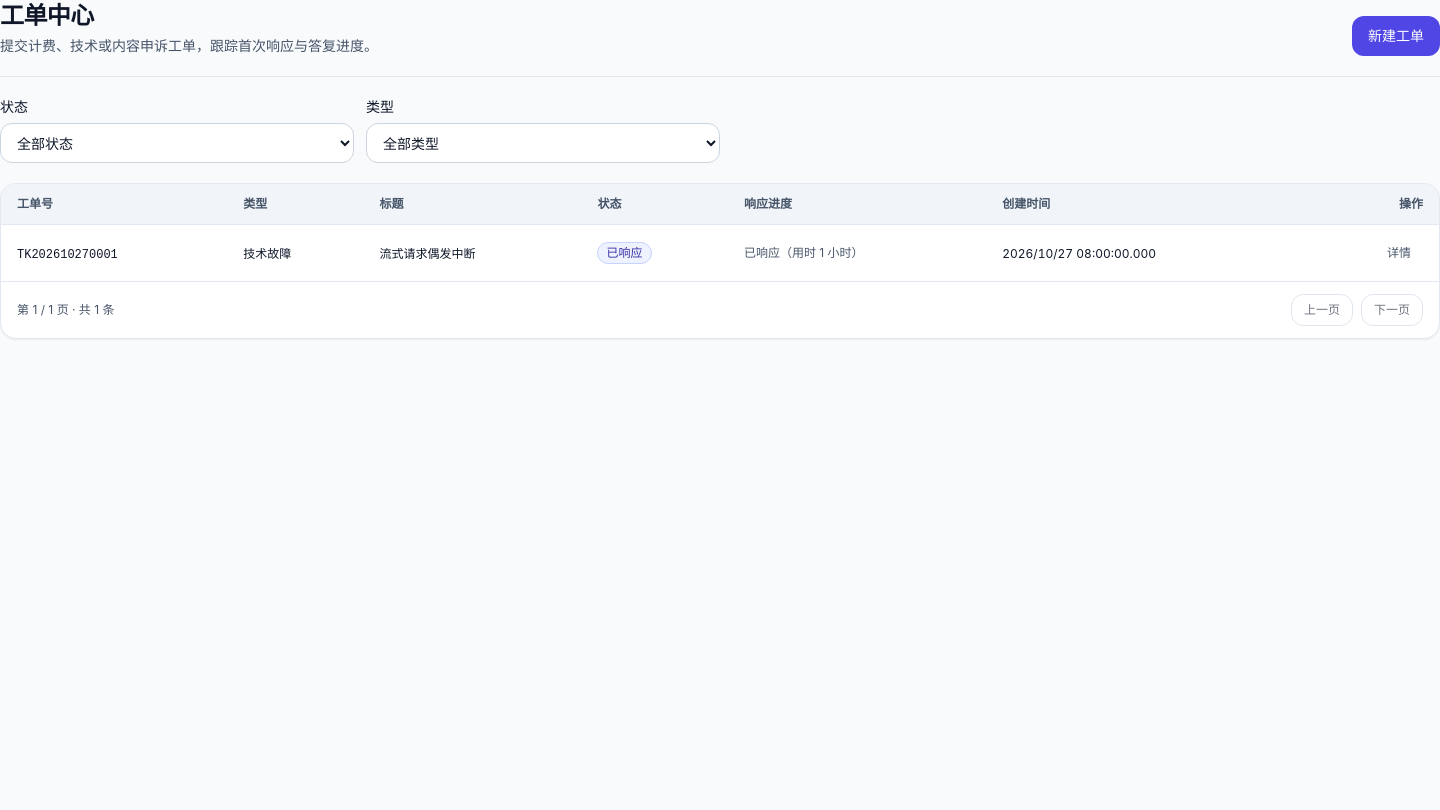
Test: TicketsPage › F19-1: the picker only sends q/page/page_size and renders backend rows
Expected: the table named "工单列表" is shown, [1, 184, 1439, 281]
Click the button "新建工单".
click(1396, 36)  # box [1352, 16, 1439, 56]
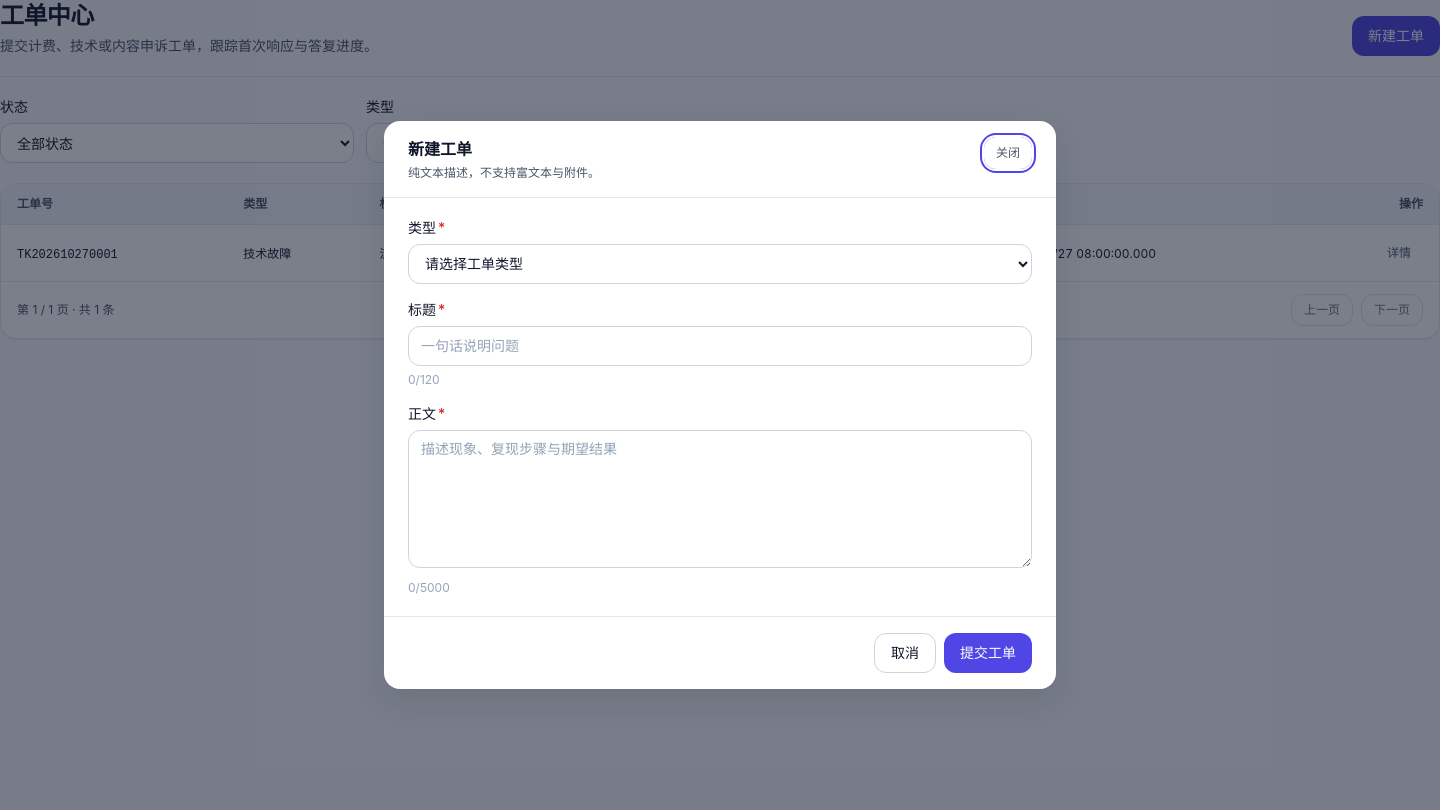
Select "技术故障" in the dropdown labelled "类型*" at (720, 264), box [408, 244, 1032, 284]
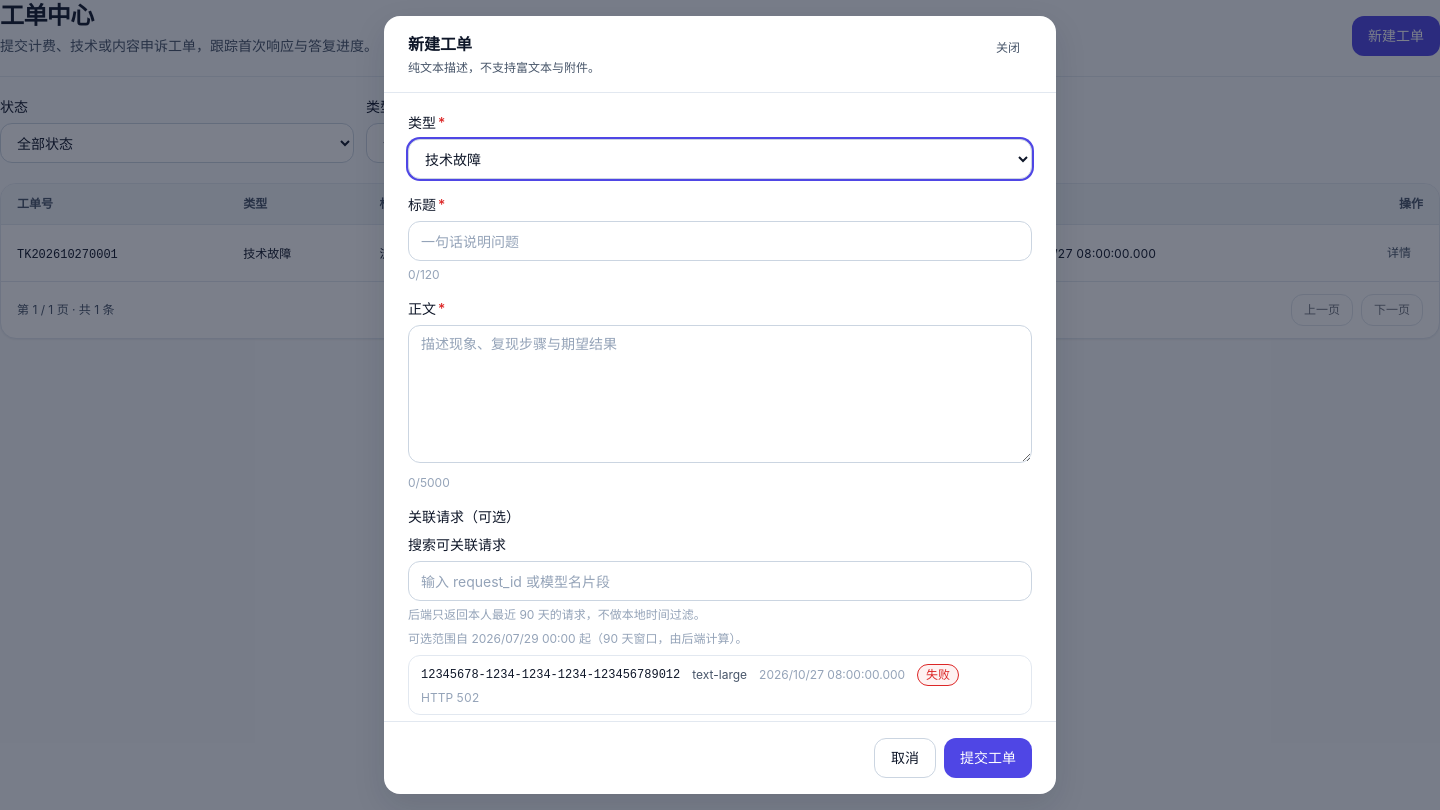
Expected: the text "可选范围自 2026/07/29 00:00 起（90 天窗口，由后端计算）。" is shown, [408, 631, 748, 646]
Type "req" into the search field labelled "搜索可关联请求".
click(720, 581); type("req")  # box [408, 561, 1032, 601]
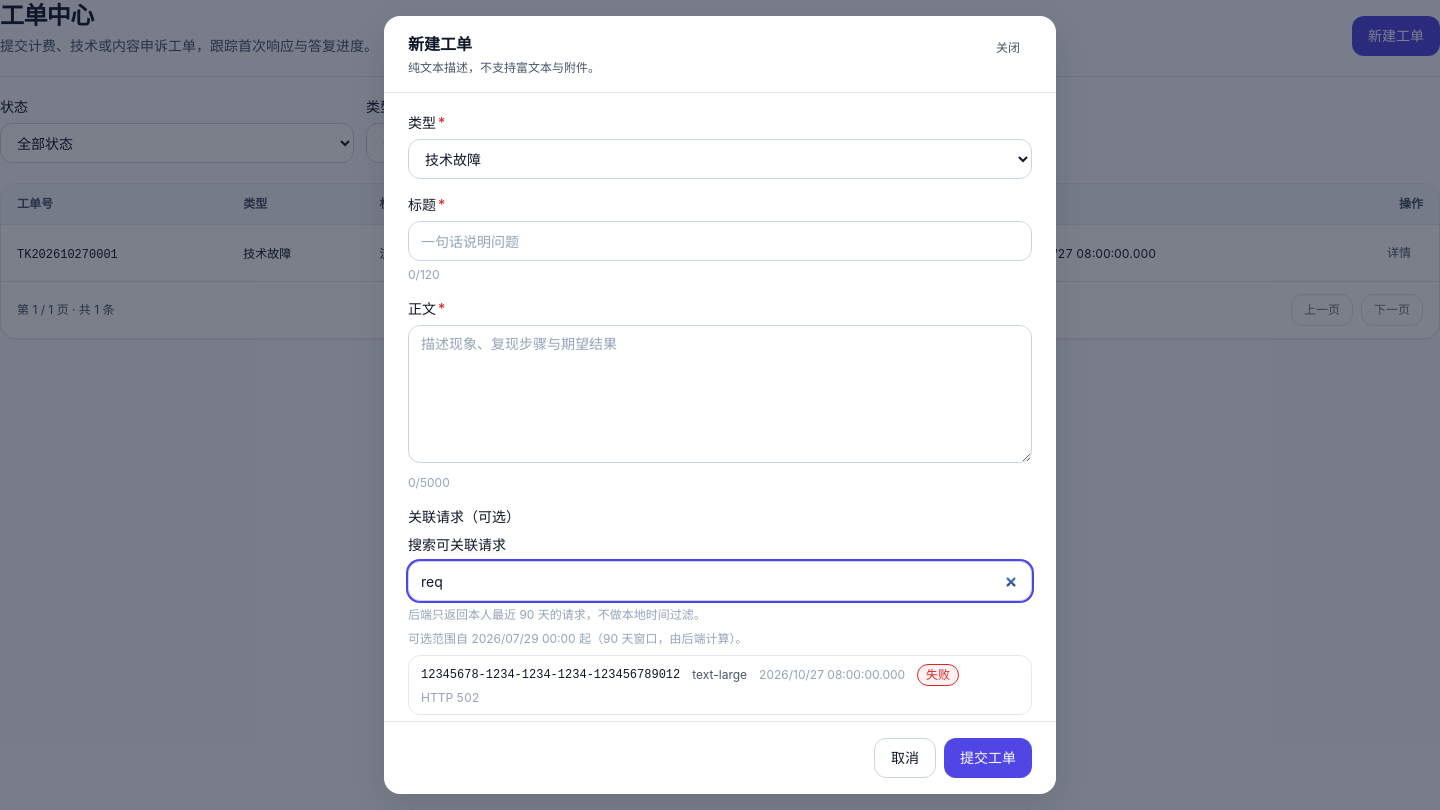
Click the button with aria-label "选择请求 12345678-1234-1234-1234-123456789012".
click(551, 675)  # box [408, 655, 1032, 715]
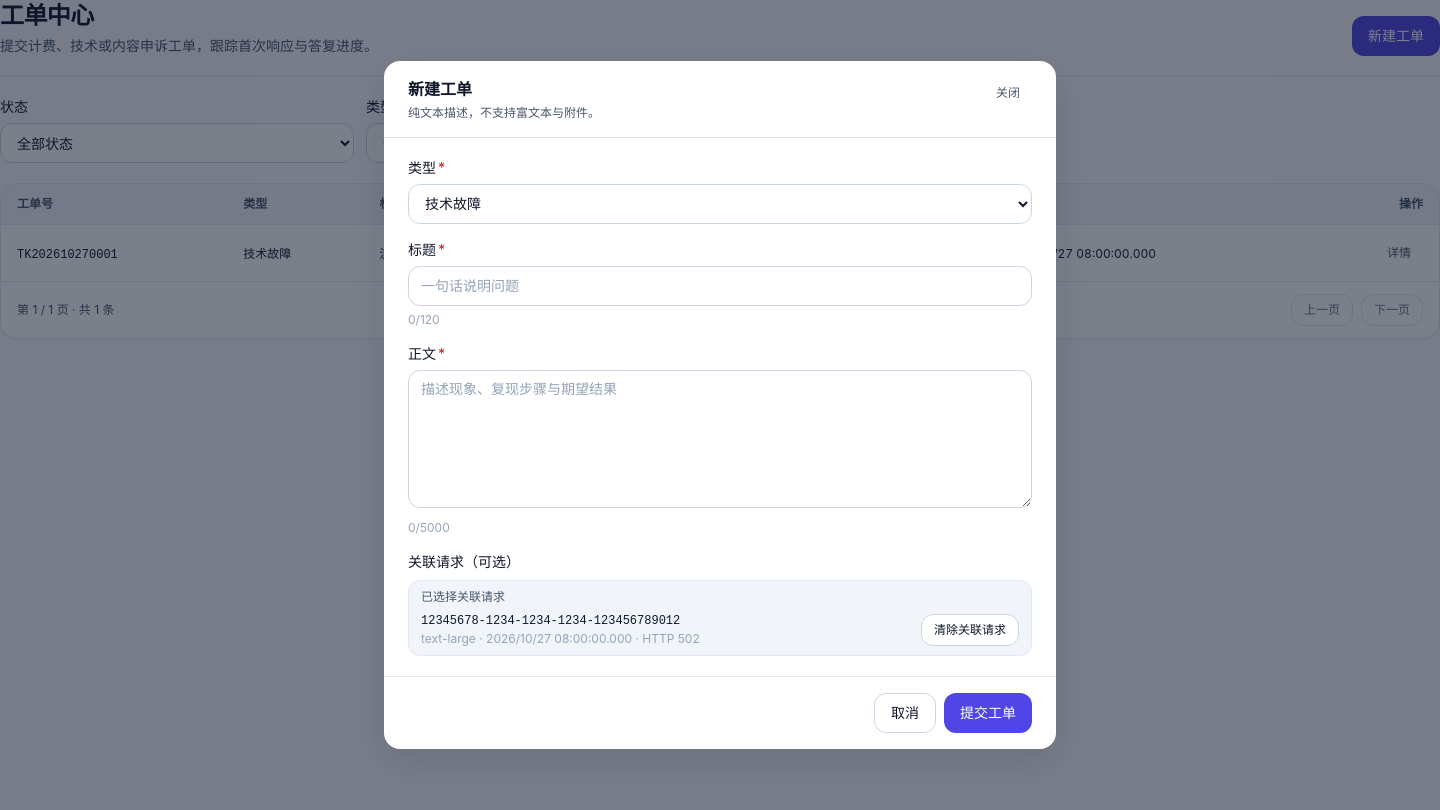
Expected: the text "已选择关联请求" is shown, [421, 589, 505, 604]
Expected: the button "清除关联请求" is shown, [921, 614, 1019, 646]
